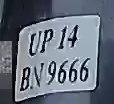1: (58, 23, 67, 51)
4: (66, 23, 83, 50)
6: (79, 56, 91, 84), (68, 56, 79, 86), (58, 58, 68, 86)
9: (47, 58, 57, 89)
B: (19, 63, 31, 96)
N: (30, 63, 44, 90)
P: (42, 27, 56, 54)
U: (26, 31, 42, 60)
